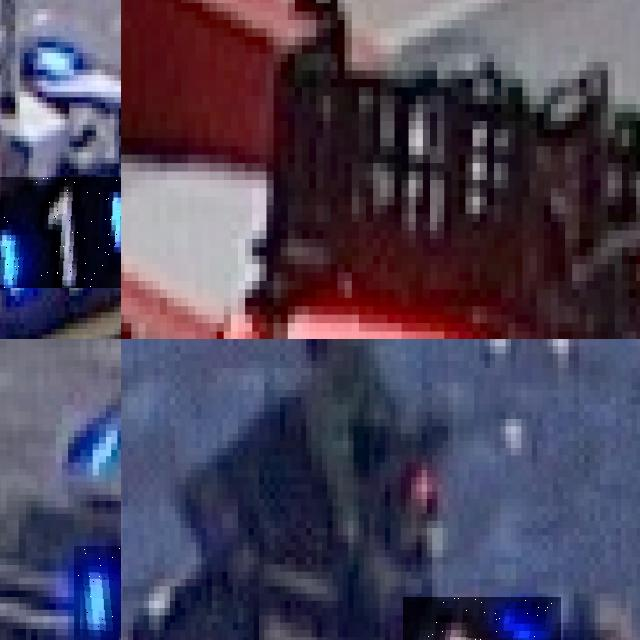B1: (0, 177, 121, 287)
B3: (74, 545, 121, 640)
B4: (403, 597, 560, 640)
